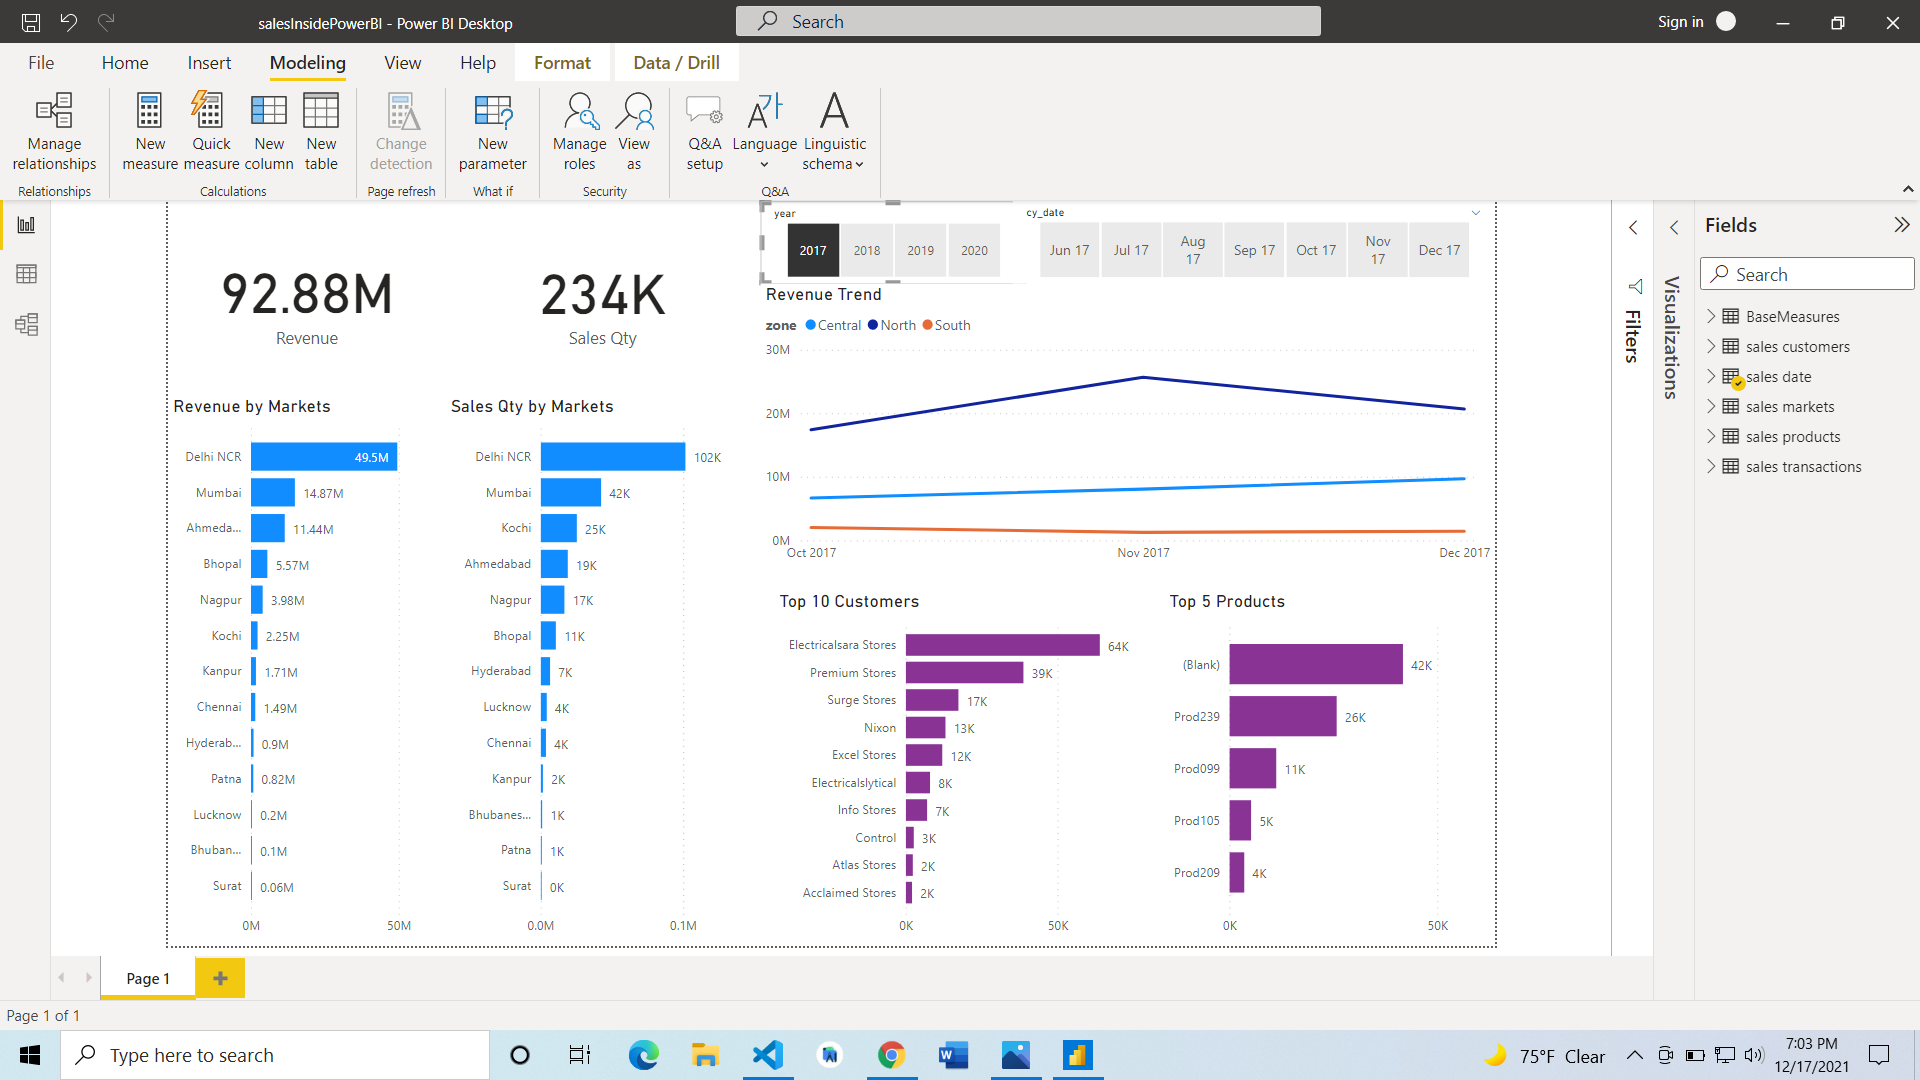

What the dashboard file says about the page in this screenshot:
{"tool":"powerbi","page":{"name":"Page 1","canvas":[1280,720],"ordinal":0},"visuals":[{"type":"card","fields":{"Values":["BaseMeasures.Revenue"]},"box":[0,0,267.8,188.2],"z":0},{"type":"card","fields":{"Values":["BaseMeasures.Sales Qty"]},"box":[267.8,1.4,303.5,186.8],"z":1000},{"type":"barChart","title":"Revenue by Markets","fields":{"Y":["BaseMeasures.Revenue"],"Category":["sales markets.markets_name"]},"box":[0,188.2,267.8,531.5],"z":2000},{"type":"barChart","title":"Sales Qty by Markets","fields":{"Y":["BaseMeasures.Sales Qty"],"Category":["sales markets.markets_name"]},"box":[267.8,188.2,317.3,531.5],"z":3000},{"type":"slicer","fields":{"Values":["sales date.year"]},"box":[571.3,1.4,255.5,79.7],"z":4000},{"type":"slicer","fields":{"Values":["sales date.cy_date"]},"box":[815.8,0,464.2,81],"z":5000},{"type":"barChart","title":"Top 10 Customers","fields":{"Y":["BaseMeasures.Sales Qty"],"Category":["sales customers.custmer_name"]},"box":[585.1,376.3,376.3,343.3],"z":6000},{"type":"barChart","title":"Top 5 Products","fields":{"Y":["BaseMeasures.Sales Qty"],"Category":["sales products.product_code"]},"box":[961.4,376.3,318.6,343.3],"z":7000},{"type":"lineChart","title":"Revenue Trend","fields":{"Y":["BaseMeasures.Revenue"],"Category":["sales date.cy_date"],"Series":["sales markets.zone"]},"box":[571.3,81,708.7,278.8],"z":8000}]}

Visuals, with their boxes on the page's 1280x720 design canvas (x1, y1, x2, y2). These are canvas units, not pixel positions in the 1920x1080 screenshot, which may show the page scaled, cropped or inside an application window:
card - BaseMeasures.Revenue: 0:0:268:188
card - BaseMeasures.Sales Qty: 268:1:571:188
"Revenue by Markets" barChart: 0:188:268:720
"Sales Qty by Markets" barChart: 268:188:585:720
slicer - sales date.year: 571:1:827:81
slicer - sales date.cy_date: 816:0:1280:81
"Top 10 Customers" barChart: 585:376:961:720
"Top 5 Products" barChart: 961:376:1280:720
"Revenue Trend" lineChart: 571:81:1280:360
